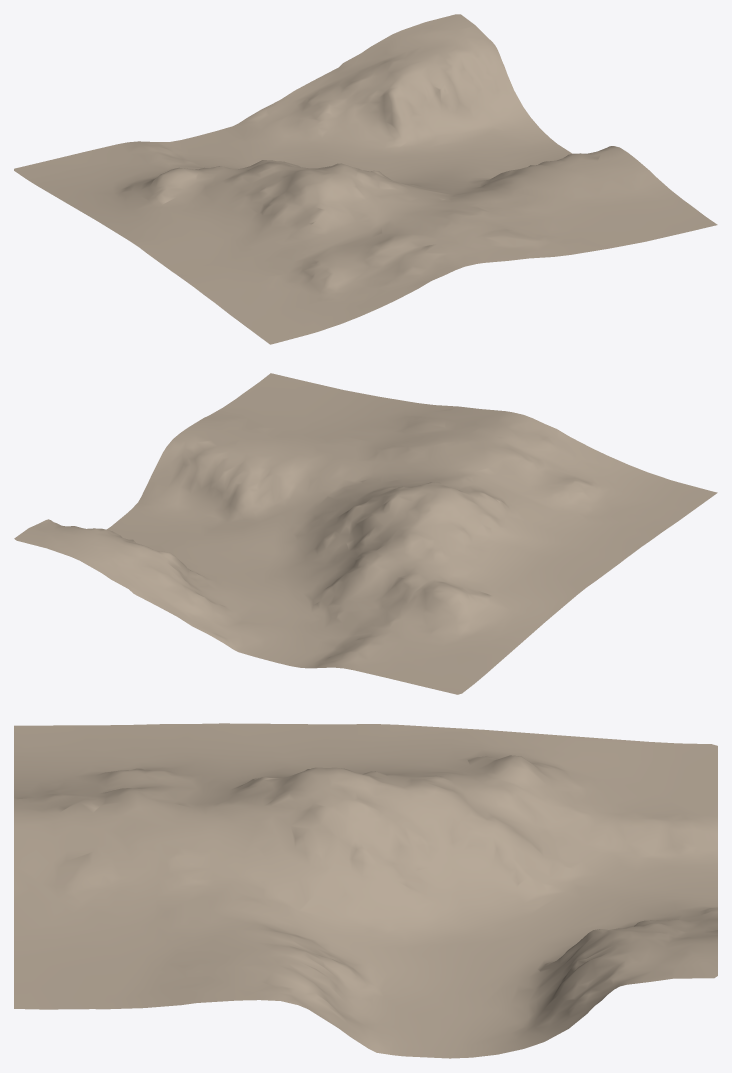
The model's file is terrain.fbx.
The picture shows the model from 3 angles, top to bottom: view 1: azimuth 30°, elevation 25°; view 2: azimuth 150°, elevation 25°; view 3: azimuth 270°, elevation 25°; orthographic projection. The views are drawn at different scales.
Parts seen in each view (by area): view 1: Valley; view 2: Valley; view 3: Valley.
Part boxes in pixels (x1,y1,x2,y2): Valley: [14, 14, 717, 344]; Valley: [14, 373, 717, 694]; Valley: [14, 723, 717, 1058].
Size of the model in its own units: 1599 by 240 by 1599.
